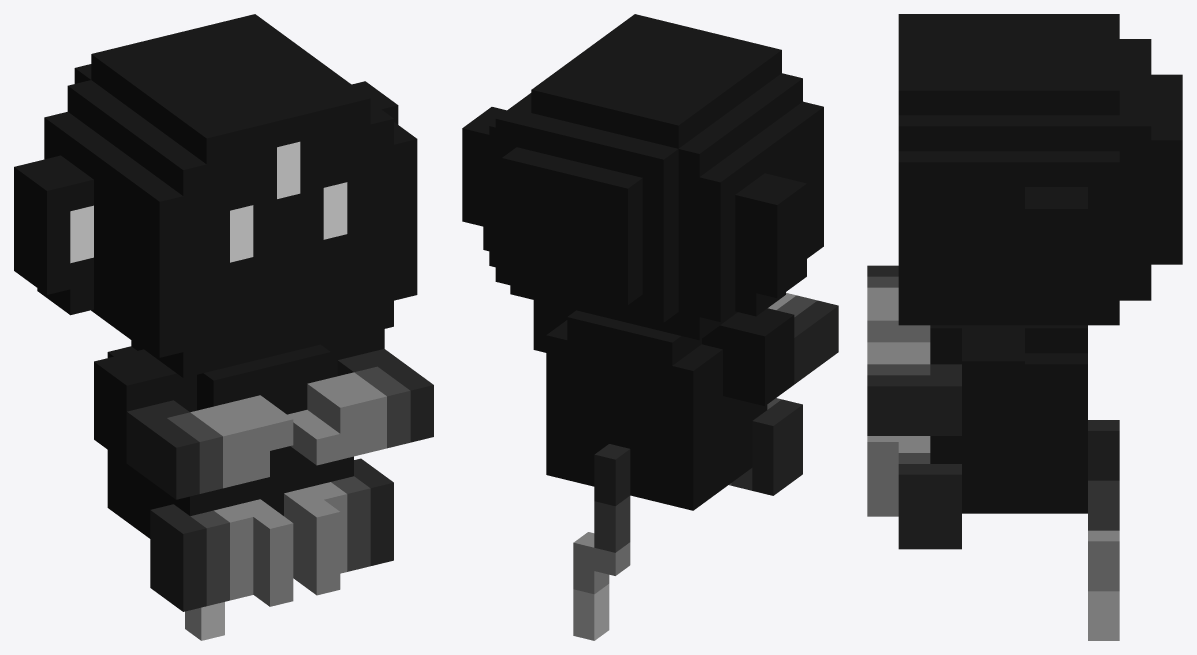
File: CharacterBlack.FBX
3 renders of one model, left to right at view 1: azimuth 30°, elevation 25°; view 2: azimuth 150°, elevation 25°; view 3: azimuth 270°, elevation 25°, orthographic. The views are drawn at different scales.
Parts seen in each view (by area): view 1: CharacterBlack; view 2: CharacterBlack; view 3: CharacterBlack.
Boxes of the visible parts, box(x1,y1,x2,y2) form: CharacterBlack: box(14, 14, 433, 640); CharacterBlack: box(462, 14, 838, 640); CharacterBlack: box(867, 14, 1182, 640).
Size of the model in its own units: 0.8 by 1.3 by 0.65.
Materials: 1 (1 with a texture image).
